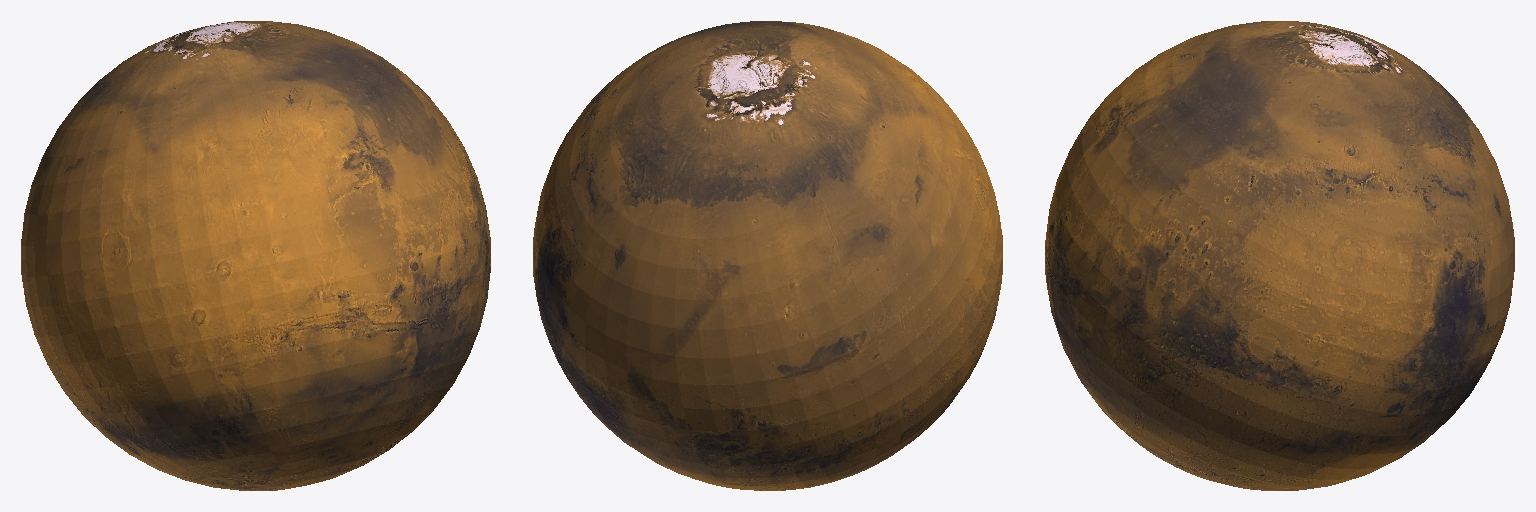
The picture shows the model from 3 angles: view 1: azimuth 30°, elevation 25°; view 2: azimuth 150°, elevation 25°; view 3: azimuth 270°, elevation 25°; orthographic projection.
Parts seen in each view (by area): view 1: Mars_ID38; view 2: Mars_ID38; view 3: Mars_ID38.
Part boxes in pixels (bbox=[...]): Mars_ID38: bbox=[21, 21, 490, 490]; Mars_ID38: bbox=[533, 21, 1002, 490]; Mars_ID38: bbox=[1045, 21, 1514, 490].
Bounding box in the file's own units: 0.6791 × 0.6784 × 0.6784.
Materials: 1 (1 with a texture image).